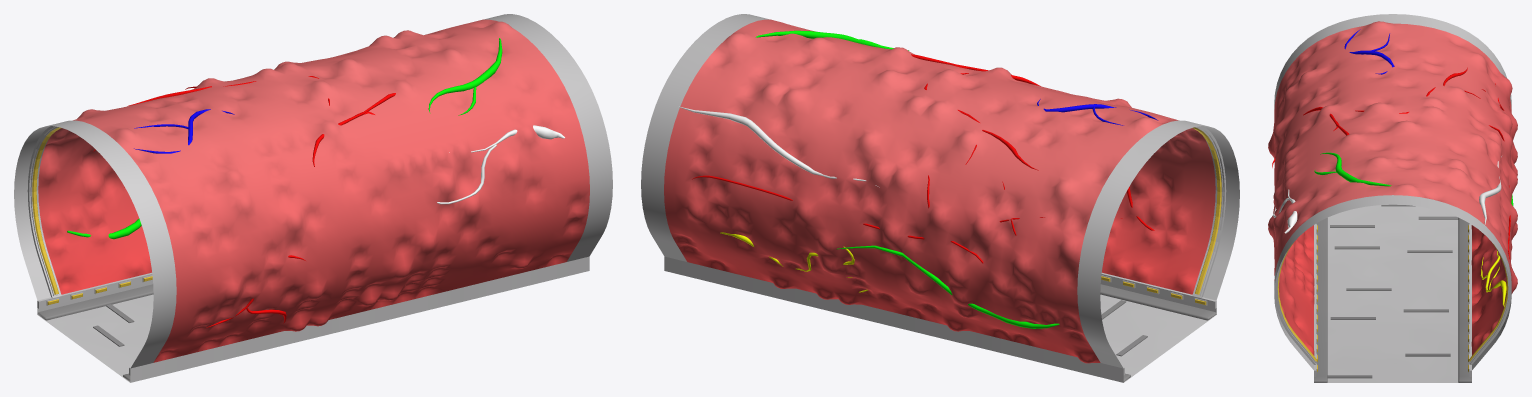
Rendered from Terowongan_1_Lurus.fbx.
The picture shows the model from 3 angles, left to right: view 1: azimuth 30°, elevation 25°; view 2: azimuth 150°, elevation 25°; view 3: azimuth 270°, elevation 25°; orthographic projection. The views are drawn at different scales.
Visible parts, largest first — view 1: Terowongan 1_Lurus; view 2: Terowongan 1_Lurus; view 3: Terowongan 1_Lurus.
Boxes of the visible parts, <box> form: Terowongan 1_Lurus: <box>14,14,612,382</box>; Terowongan 1_Lurus: <box>641,14,1239,382</box>; Terowongan 1_Lurus: <box>1268,14,1517,382</box>.
Bounding box in the file's own units: 1000 × 450 × 554.
4 materials, 4 textured.
